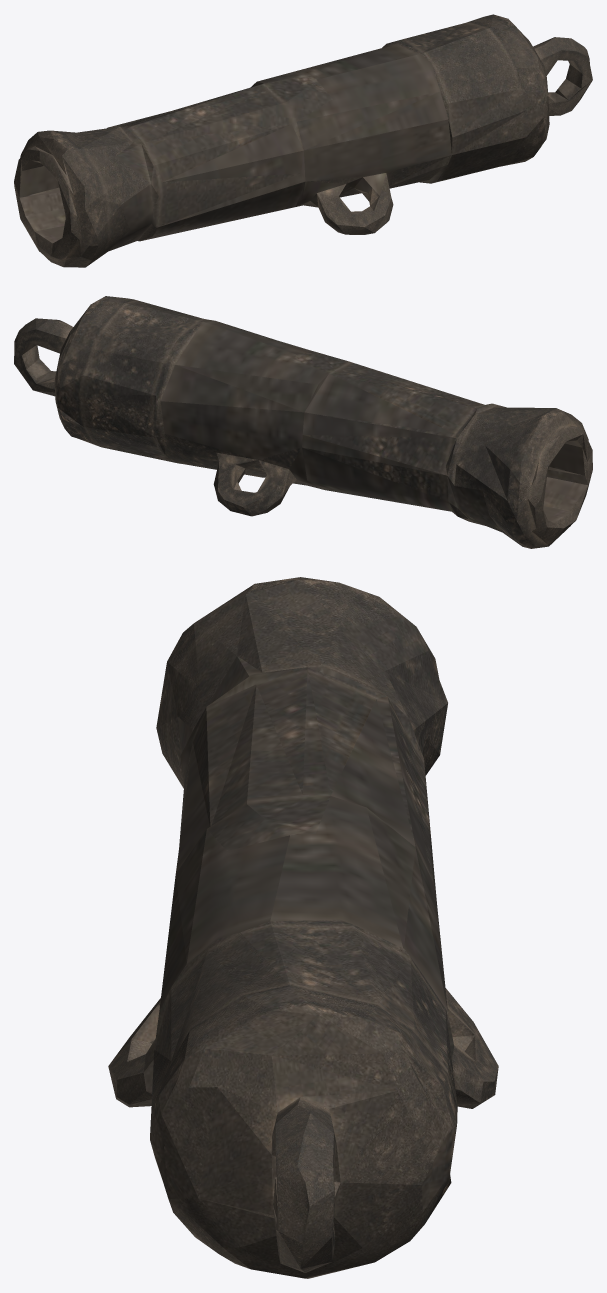
File: carronade.glb
The picture shows the model from 3 angles, top to bottom: view 1: azimuth 30°, elevation 25°; view 2: azimuth 150°, elevation 25°; view 3: azimuth 270°, elevation 25°; orthographic projection. The views are drawn at different scales.
Visible parts, largest first — view 1: Mesh_0; view 2: Mesh_0; view 3: Mesh_0.
Part boxes in pixels (bbox=[...]): Mesh_0: bbox=[14, 14, 592, 267]; Mesh_0: bbox=[14, 296, 592, 548]; Mesh_0: bbox=[108, 577, 498, 1278].
Size of the model in its own units: 1 by 0.2386 by 0.307.
1 material, 1 textured.
